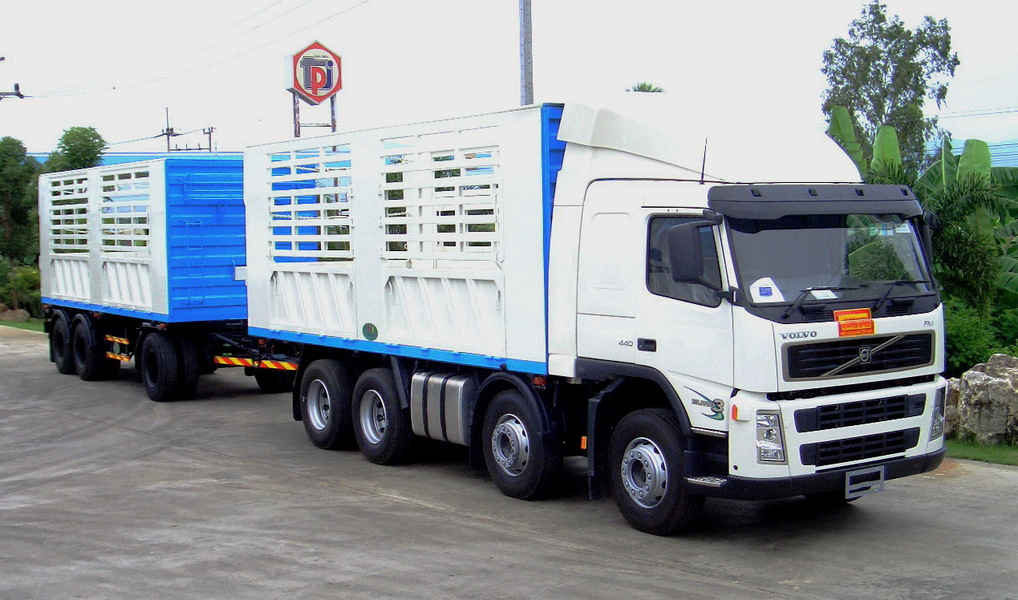truck: (243, 106, 948, 535)
